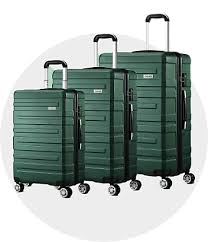suitcase: (99, 13, 197, 189), (51, 33, 143, 197), (11, 59, 86, 199)
